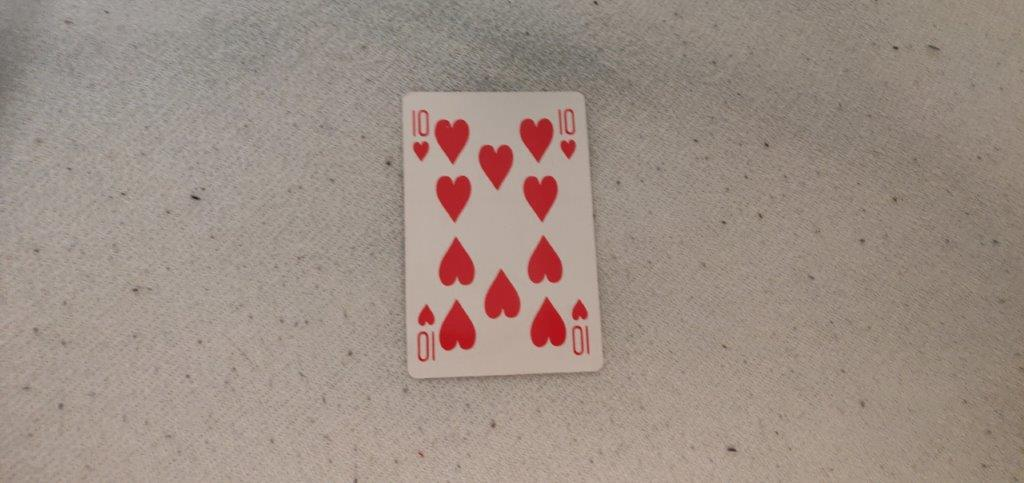10H: (406, 103, 438, 166), (555, 104, 584, 166)
